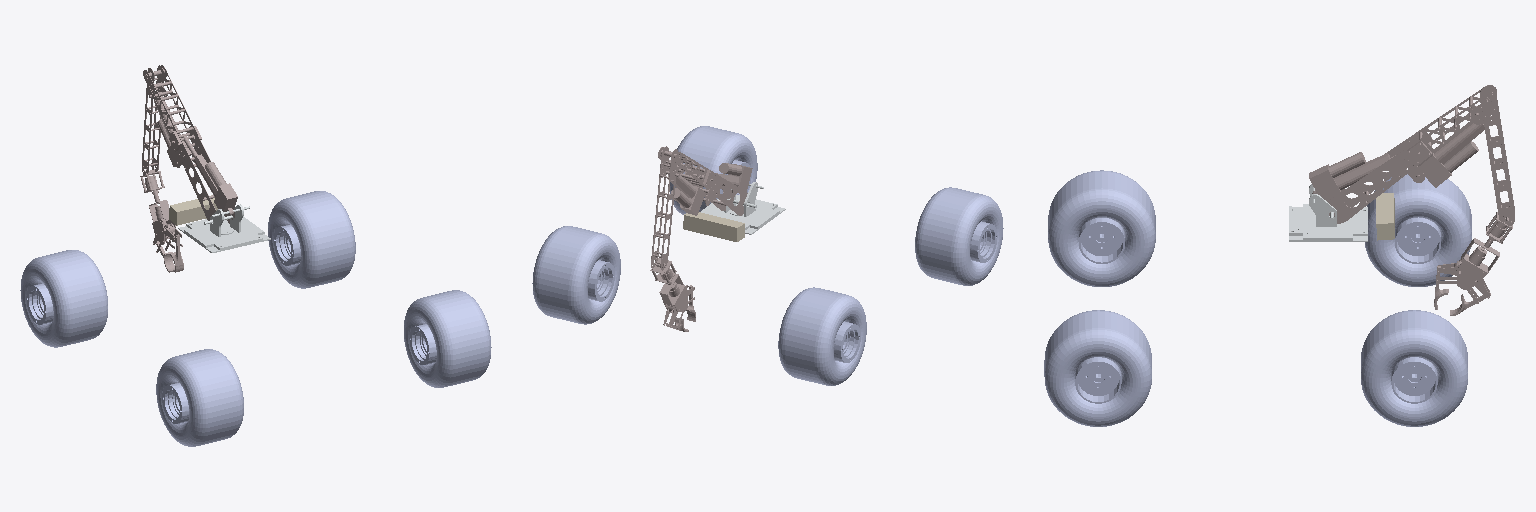
The robot description file, URDF, robot "aspha18_urdf":
<robot
  name="aspha18_urdf">
  <link
    name="base_link">
    <inertial>
      <origin
        xyz="0 0 0"
        rpy="0 0 0" />
      <mass
        value="2.7918" />
      <inertia
        ixx="0.095684"
        ixy="0.001902"
        ixz="-0.00027184"
        iyy="0.058185"
        iyz="0.00031126"
        izz="0.14455" />
    </inertial>
    <visual>
      <origin
        xyz="0 0 0"
        rpy="0 0 0" />
      <geometry>
        <mesh
          filename="package://aspha18_urdf/meshes/base_link.stl" />
      </geometry>
      <material
        name="">
        <color
          rgba="0.84314 0.81569 0.75294 1" />
      </material>
    </visual>
    <collision>
      <origin
        xyz="0 0 0"
        rpy="0 0 0" />
      <geometry>
        <mesh
          filename="package://aspha18_urdf/meshes/base_link.stl" />
      </geometry>
    </collision>
  </link>

    <link
    name="kinect2_rgb_optical_frame">
    <color rgba="1 0 0 0"/>
    <inertial>
      <origin
        xyz="0 0 0"
        rpy="0 0 0" />
      <mass
        value="2.7918" />
      <inertia
        ixx="0.095684"
        ixy="0.001902"
        ixz="-0.00027184"
        iyy="0.058185"
        iyz="0.00031126"
        izz="0.14455" />
    </inertial>
    <visual>
      <origin
        xyz="0 0 0"
        rpy="0 0 0" />
      <geometry>
        <box size="0.2 0.05 0.05"/>
      </geometry>
      <material
        name="">
        <color
          rgba="0.84314 0.81569 0.75294 1" />
      </material>
    </visual>
    <collision>
      <origin
        xyz="0 0 0"
        rpy="0 0 0" />
      <geometry>
        <box size="0.1 0.6 0.1"/>
      </geometry>
    </collision>
  </link>

  <joint
    name="kinect_joint"
    type="fixed">
    <origin
      xyz="0 0.35 0.12"
      rpy="-1.5 0 0" />
    <parent
      link="base_link" />
    <child
      link="kinect2_rgb_optical_frame" />
  </joint>


  
  <link
    name="wheel1">
    <inertial>
      <origin
      xyz="0 0 0 "
      rpy="0 0 0" />
      <mass
        value="11.53" />
      <inertia
        ixx="0.13597"
        ixy="1.2879E-07"
        ixz="-9.0853E-09"
        iyy="0.097658"
        iyz="-3.0537E-14"
        izz="0.097658" />
    </inertial>
    <visual>
      <origin
      xyz="0 0 0"
      rpy="0 0 0" />
      <geometry>
        <mesh
          filename="package://aspha18_urdf/meshes/wheel1.stl" />
      </geometry>
      <material
        name="">
        <color
          rgba="0.79216 0.81961 0.93333 1" />
      </material>
    </visual>
    <collision>
      <origin
      xyz="0 0 0"
      rpy="0 0 0"/>
      <geometry>
        <mesh
          filename="package://aspha18_urdf/meshes/wheel1.stl" />
      </geometry>
    </collision>
  </link>
  <joint
    name="rotate1"
    type="continuous">
    <origin
      xyz="0.46 0.43 -0.13"
      rpy="0 0 0" />
    <parent
      link="base_link" />
    <child
      link="wheel1" />
    <axis
      xyz="1 0 0" />
  </joint>

  <link
    name="wheel2">
    <inertial>
      <origin
      xyz="0 0 0"
      rpy="0 0 0" />
      <mass
        value="11.5298327680895" />
      <inertia
        ixx="0.135971148628003"
        ixy="-5.63856091752789E-08"
        ixz="1.16335845630891E-07"
        iyy="0.0976582051487171"
        iyz="-1.71203329291103E-13"
        izz="0.0976582051489874" />
    </inertial>
    <visual>
      <origin
        xyz="0 0 0"
        rpy="0 0 0" />
      <geometry>
        <mesh
          filename="package://aspha18_urdf/meshes/wheel2.stl" />
      </geometry>
      <material
        name="">
        <color
          rgba="0.792156862745098 0.819607843137255 0.933333333333333 1" />
      </material>
    </visual>
    <collision>
      <origin
        xyz="0 0 0"
        rpy="0 0 0" />
      <geometry>
        <mesh
          filename="package://aspha18_urdf/meshes/wheel2.stl" />
      </geometry>
    </collision>
  </link>
  <joint
    name="rotate2"
    type="continuous">
    <origin
      xyz="-0.46 0.44 -0.13"
      rpy="0 0 0" />
    <parent
      link="base_link" />
    <child
      link="wheel2" />
    <axis
      xyz="1 0 0" />
  </joint>

  <link
    name="wheel3">
    <inertial>
      <origin
       
      xyz="0 0 0"
      rpy="0 0 0" />
      <mass
        value="11.5298327680895" />
      <inertia
        ixx="0.135971148628439"
        ixy="-2.13278075453915E-13"
        ixz="1.49984791894007E-14"
        iyy="0.0976582051486343"
        iyz="2.16840434497101E-18"
        izz="0.0976582051486343" />
    </inertial>
    <visual>
      <origin
        xyz="0 0 0"
        rpy="0 0 0" />
      <geometry>
        <mesh
          filename="package://aspha18_urdf/meshes/wheel3.stl" />
      </geometry>
      <material
        name="">
        <color
          rgba="0.792156862745098 0.819607843137255 0.933333333333333 1" />
      </material>
    </visual>
    <collision>
      <origin
        xyz="0 0 0"
        rpy="0 0 0" />
      <geometry>
        <mesh
          filename="package://aspha18_urdf/meshes/wheel3.stl" />
      </geometry>
    </collision>
  </link>
  <joint
    name="rotate3"
    type="continuous">
    <origin
      
      xyz="0.46 -0.45 -0.13"
      rpy="0 0 0" />
    <parent
      link="base_link" />
    <child
      link="wheel3" />
    <axis
      xyz="1 0 0" />
  </joint>
  
  <link
    name="wheel4">
    <inertial>
      <origin
        
      xyz="0 0 0"
      rpy="0 0 0" />
      <mass
        value="11.5298327680895" />
      <inertia
        ixx="0.135971148628439"
        ixy="-1.95838647067939E-13"
        ixz="-9.49762849544681E-14"
        iyy="0.097658205148634"
        iyz="2.42861286636753E-17"
        izz="0.097658205148634" />
    </inertial>
    <visual>
      <origin
        xyz="0 0 0"
        rpy="0 0 0" />
      <geometry>
        <mesh
          filename="package://aspha18_urdf/meshes/wheel4.stl" />
      </geometry>
      <material
        name="">
        <color
          rgba="0.792156862745098 0.819607843137255 0.933333333333333 1" />
      </material>
    </visual>
    <collision>
      <origin
        xyz="0 0 0"
        rpy="0 0 0" />
      <geometry>
        <mesh
          filename="package://aspha18_urdf/meshes/wheel4.stl" />
      </geometry>
    </collision>
  </link>
  <joint
    name="rotate4"
    type="continuous">
    <origin
      
      xyz="-0.46 -0.44 -0.13"
      rpy="0 0 0" />
    <parent
      link="base_link" />
    <child
      link="wheel4" />
    <axis
      xyz="1 0 0" />
  </joint>
  <link
    name="base_rotn">
    <inertial>
      <origin
        xyz="0 0 0"
        rpy="0 0 0" />
      <mass
        value="0.773197125339031" />
      <inertia
        ixx="0.00103764705393415"
        ixy="6.58182970956898E-06"
        ixz="5.54891502901135E-05"
        iyy="0.00130367193834491"
        iyz="-0.000179327606683225"
        izz="0.000348493395648461" />
    </inertial>
    <visual>
      <origin
        xyz="0 0 0"
        rpy="0 0 0" />
      <geometry>
        <mesh
          filename="package://aspha18_urdf/meshes/base_rotn.stl" />
      </geometry>
      <material
        name="">
        <color
          rgba="0.898039215686275 0.917647058823529 0.929411764705882 1" />
      </material>
    </visual>
    <collision>
      <origin
        xyz="0 0 0"
        rpy="0 0 0" />
      <geometry>
        <mesh
          filename="package://aspha18_urdf/meshes/base_rotn.stl" />
      </geometry>
    </collision>
  </link>
  <joint
    name="base_rot1"
    type="continuous">
    <origin
      xyz="0 0.19 0.14"
      rpy="0 0 0" />
    <parent
      link="base_link" />
    <child
      link="base_rotn" />
    <axis
      xyz="0 0 1" />
    <limit
      effort="0"
      velocity="0" />
  </joint>
  <link
    name="shoulder_links">
    <inertial>
      <origin
        xyz="0 0.23 0.14"
        rpy="0 0 0" />
      <mass
        value="0.104640684850347" />
      <inertia
        ixx="7.98235631104724E-05"
        ixy="-4.92478395888344E-19"
        ixz="4.07842412768808E-05"
        iyy="0.000925048572837215"
        iyz="-3.03056955059653E-18"
        izz="0.000973974480713755" />
    </inertial>
    <visual>
      <origin
        xyz="0 0.23 0.14"
        rpy="0 0 0" />
      <geometry>
        <mesh
          filename="package://aspha18_urdf/meshes/shoulder.stl" />
      </geometry>
      <material
        name="">
        <color
          rgba="0.729411764705882 0.67843137254902 0.67843137254902 1" />
      </material>
    </visual>
    <collision>
      <origin
        xyz="0 0.23 0.14"
        rpy="0 0 0" />
      <geometry>
        <mesh
          filename="package://aspha18_urdf/meshes/shoulder.stl" />
      </geometry>
    </collision>
  </link>
  <joint
    name="shoulder_joint"
    type="revolute">
    <origin
      xyz="0 0 0.02"
      rpy="0 0 0" />
    <parent
      link="base_rotn" />
    <child
      link="shoulder_links" />
    <axis
      xyz="1 0 0" />
    <limit
      lower="-0.45"
      upper="1.12"
      effort="0"
      velocity="0" />
  </joint>
  <link
    name="elbow_link">
    <inertial>
      <origin
        xyz="0 0.13 -0.13"
        rpy="-0.67 0 0" />
      <mass
        value="0.0411062379032747" />
      <inertia
        ixx="1.21837641589144E-05"
        ixy="-1.69964129768756E-18"
        ixz="1.52307939635103E-06"
        iyy="0.000132211701064061"
        iyz="5.81115462912697E-19"
        izz="0.00013982909112128" />
    </inertial>
    <visual>
      <origin
        xyz="0 0.13 -0.13"
        rpy="-0.67 0 0" />
      <geometry>
        <mesh
          filename="package://aspha18_urdf/meshes/elbow.stl" />
      </geometry>
      <material
        name="">
        <color
          rgba="0.729411764705882 0.67843137254902 0.67843137254902 1" />
      </material>
    </visual>
    <collision>
      <origin
        xyz="0 0.13 -0.13"
        rpy="-0.67 0 0" />
      <geometry>
        <mesh
          filename="package://aspha18_urdf/meshes/elbow.stl" />
      </geometry>
    </collision>
  </link>
  <joint
    name="elbow_joint"
    type="revolute">
    <origin
      xyz="0 0.45 0.33"
      rpy="-0.67 0 0" />
    <parent
      link="shoulder_links" />
    <child
      link="elbow_link" />
    <axis
      xyz="1 0 0" />
    <limit
      lower="-3.14"
      upper="3.14"
      effort="0"
      velocity="0" />
  </joint>
  <link
    name="gripper">
    <inertial>
      <origin
        xyz="0.005 0.02 -0.18"
        rpy="0 0 0" />
      <mass
        value="0.0411062379032747" />
      <inertia
        ixx="1.21837641589144E-05"
        ixy="-1.69964129768756E-18"
        ixz="1.52307939635103E-06"
        iyy="0.000132211701064061"
        iyz="5.81115462912697E-19"
        izz="0.00013982909112128" />
    </inertial>
    <visual>
      <origin
        xyz="0.005 0.02 -0.18"
        rpy="0 0 0" />
      <geometry>
        <mesh
          filename="package://aspha18_urdf/meshes/gripper.stl" />
      </geometry>
      <material
        name="">
        <color
          rgba="0.729411764705882 0.67843137254902 0.67843137254902 1" />
      </material>
    </visual>
    <collision>
      <origin
        xyz="0.005 0.02 -0.18"
        rpy="0 0 0" />
      <geometry>
        <mesh
          filename="package://aspha18_urdf/meshes/gripper.stl" />
      </geometry>
    </collision>
  </link>
  <joint
    name="gripper_joint"
    type="revolute">
    <origin

      xyz="0.005 0.27 -0.25"
      rpy="0 0 0" />
    <parent
      link="elbow_link" />
    <child
      link="gripper" />
    <axis
      xyz="1 0 0" />
    <limit
      lower="-1.2"
      upper="1.9"
      effort="0"
      velocity="0" />
  </joint>

</robot>

      <!--xyz="0.01 0.29 -0.43"-->

--- Facts derived from the render (not from the file) ---
Views: 3 orthographic renders of the robot side by side, from view 1: azimuth 30°, elevation 25°; view 2: azimuth 150°, elevation 25°; view 3: azimuth 270°, elevation 25°.
Model aspha18_urdf with 10 links and 9 joints (3 revolute, 5 continuous, 1 fixed), rooted at base_link, posed all joints at 0.
Visible links, largest first — view 1: wheel4, wheel3, wheel1, wheel2, shoulder_links, base_rotn, gripper, elbow_link, kinect2_rgb_optical_frame; view 2: wheel2, wheel1, wheel4, shoulder_links, wheel3, gripper, base_rotn, elbow_link, kinect2_rgb_optical_frame; view 3: wheel3, wheel4, wheel1, wheel2, shoulder_links, base_rotn, gripper, elbow_link, kinect2_rgb_optical_frame.
Link boxes in pixels (bbox=[...]): wheel4: bbox=[156, 349, 243, 446]; wheel3: bbox=[404, 290, 491, 387]; wheel1: bbox=[268, 191, 355, 288]; wheel2: bbox=[20, 250, 107, 347]; shoulder_links: bbox=[143, 65, 237, 223]; base_rotn: bbox=[178, 204, 270, 252]; gripper: bbox=[140, 169, 183, 272]; elbow_link: bbox=[142, 65, 167, 176]; kinect2_rgb_optical_frame: bbox=[169, 195, 217, 225]; wheel2: bbox=[778, 287, 866, 385]; wheel1: bbox=[532, 226, 620, 324]; wheel4: bbox=[915, 187, 1003, 285]; shoulder_links: bbox=[658, 147, 752, 215]; wheel3: bbox=[670, 126, 757, 214]; gripper: bbox=[650, 258, 695, 331]; base_rotn: bbox=[701, 182, 785, 234]; elbow_link: bbox=[651, 146, 682, 270]; kinect2_rgb_optical_frame: bbox=[683, 212, 744, 241]; wheel3: bbox=[1044, 310, 1151, 426]; wheel4: bbox=[1048, 170, 1155, 286]; wheel1: bbox=[1361, 310, 1467, 426]; wheel2: bbox=[1365, 174, 1471, 286]; shoulder_links: bbox=[1309, 85, 1496, 223]; base_rotn: bbox=[1289, 184, 1367, 241]; gripper: bbox=[1434, 212, 1512, 315]; elbow_link: bbox=[1474, 86, 1514, 225]; kinect2_rgb_optical_frame: bbox=[1376, 193, 1394, 240].
Bounding box of the posed robot: 1.12 × 1.31 × 0.7932 m (x, y, z).
Meshes: 9 distinct files referenced, 8 mesh visuals loaded (8 binary STL); not drawn: 1 (reference not matched to a file when rendering).
